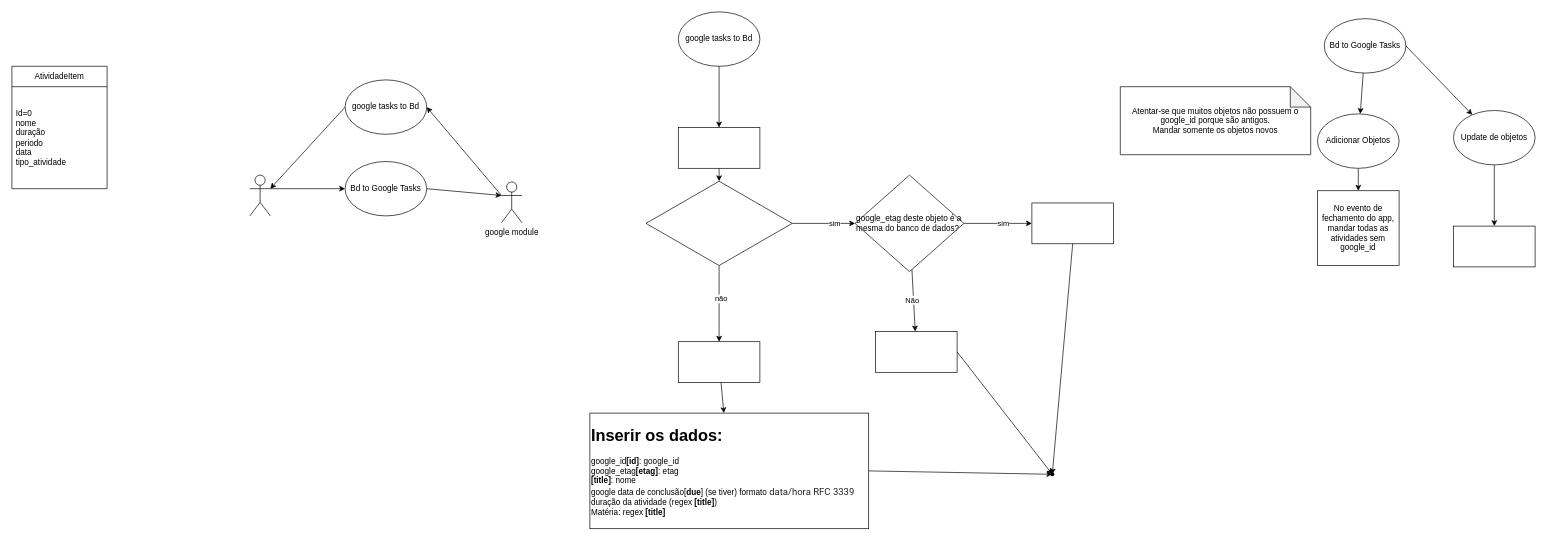
This 1547x541 diagram has some shape labels left out. The shapes that lost their labels are listed below. From the top down, each one's centre as x and y in pixels, then its label:
point 719,147: Coletar tasks existentes
point 259,195: db
point 718,223: google_id existe no banco de dados?
point 1072,223: colete o objeto pelo banco de dados.
point 719,361: Inserir objeto novo
point 916,351: Atualizar o banco de dados com o objeto novo
